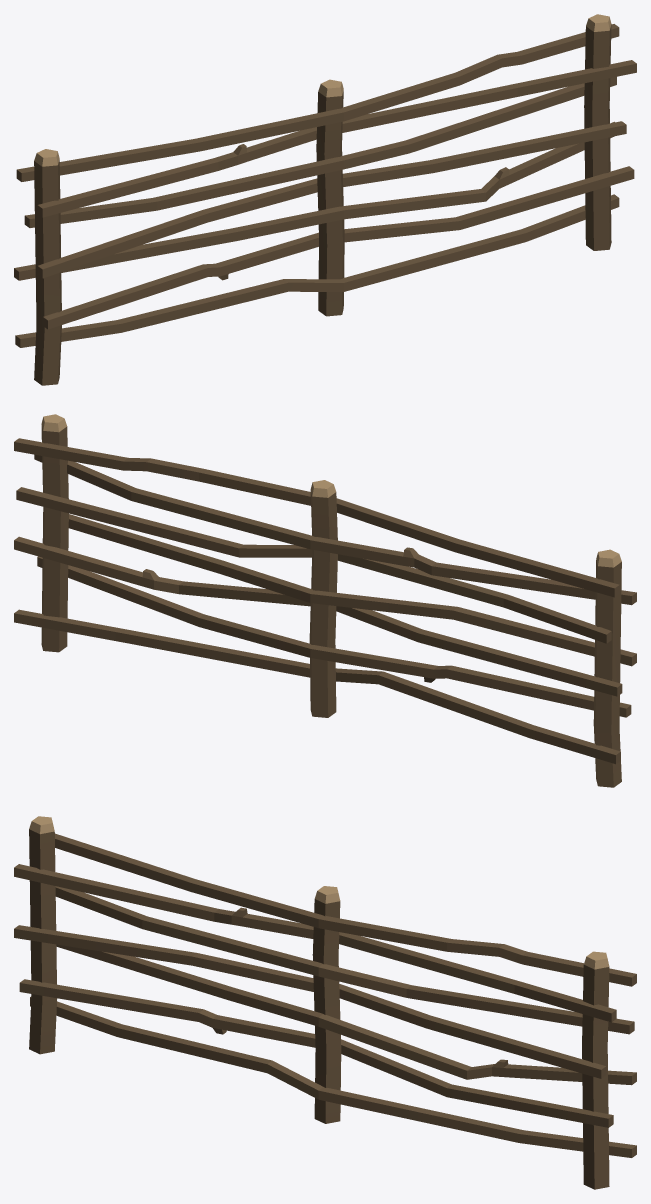
File: Valla_03.glb
The picture shows the model from 3 angles, top to bottom: view 1: azimuth 30°, elevation 25°; view 2: azimuth 150°, elevation 25°; view 3: azimuth 330°, elevation 25°; orthographic projection.
Parts seen in each view (by area): view 1: SM_Prop_Fence_Stick_01_1; view 2: SM_Prop_Fence_Stick_01_1; view 3: SM_Prop_Fence_Stick_01_1.
Part boxes in pixels (x1,y1,x2,y2): SM_Prop_Fence_Stick_01_1: (14,14,636,385); SM_Prop_Fence_Stick_01_1: (14,414,636,787); SM_Prop_Fence_Stick_01_1: (14,816,636,1189).
Size of the model in its own units: 3.26 by 1.18 by 0.2261.
Materials: 1 (1 with a texture image).
